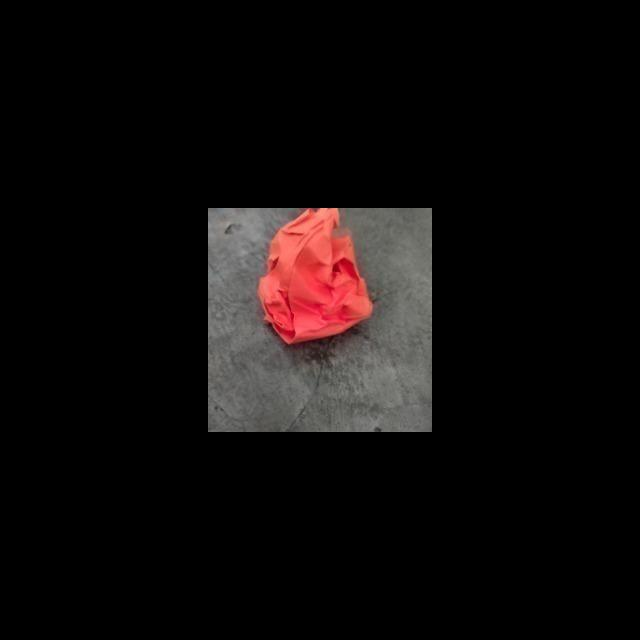paper: (252, 208, 377, 353)
